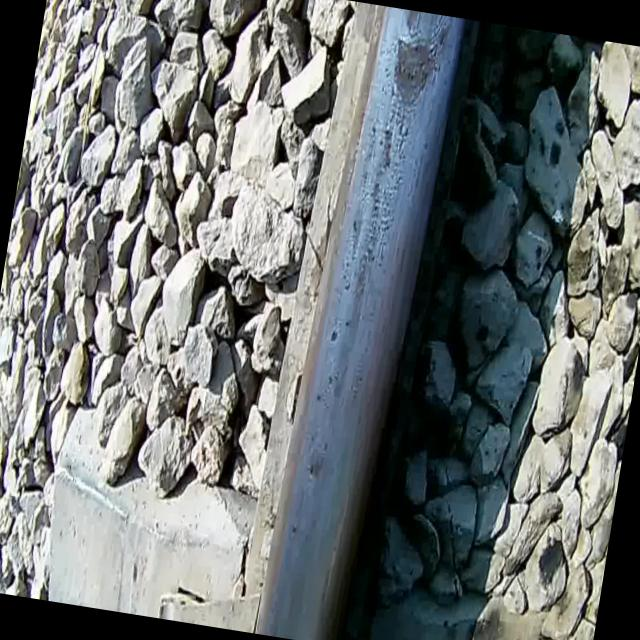Squats: (383, 32, 443, 120), (396, 9, 435, 39)
